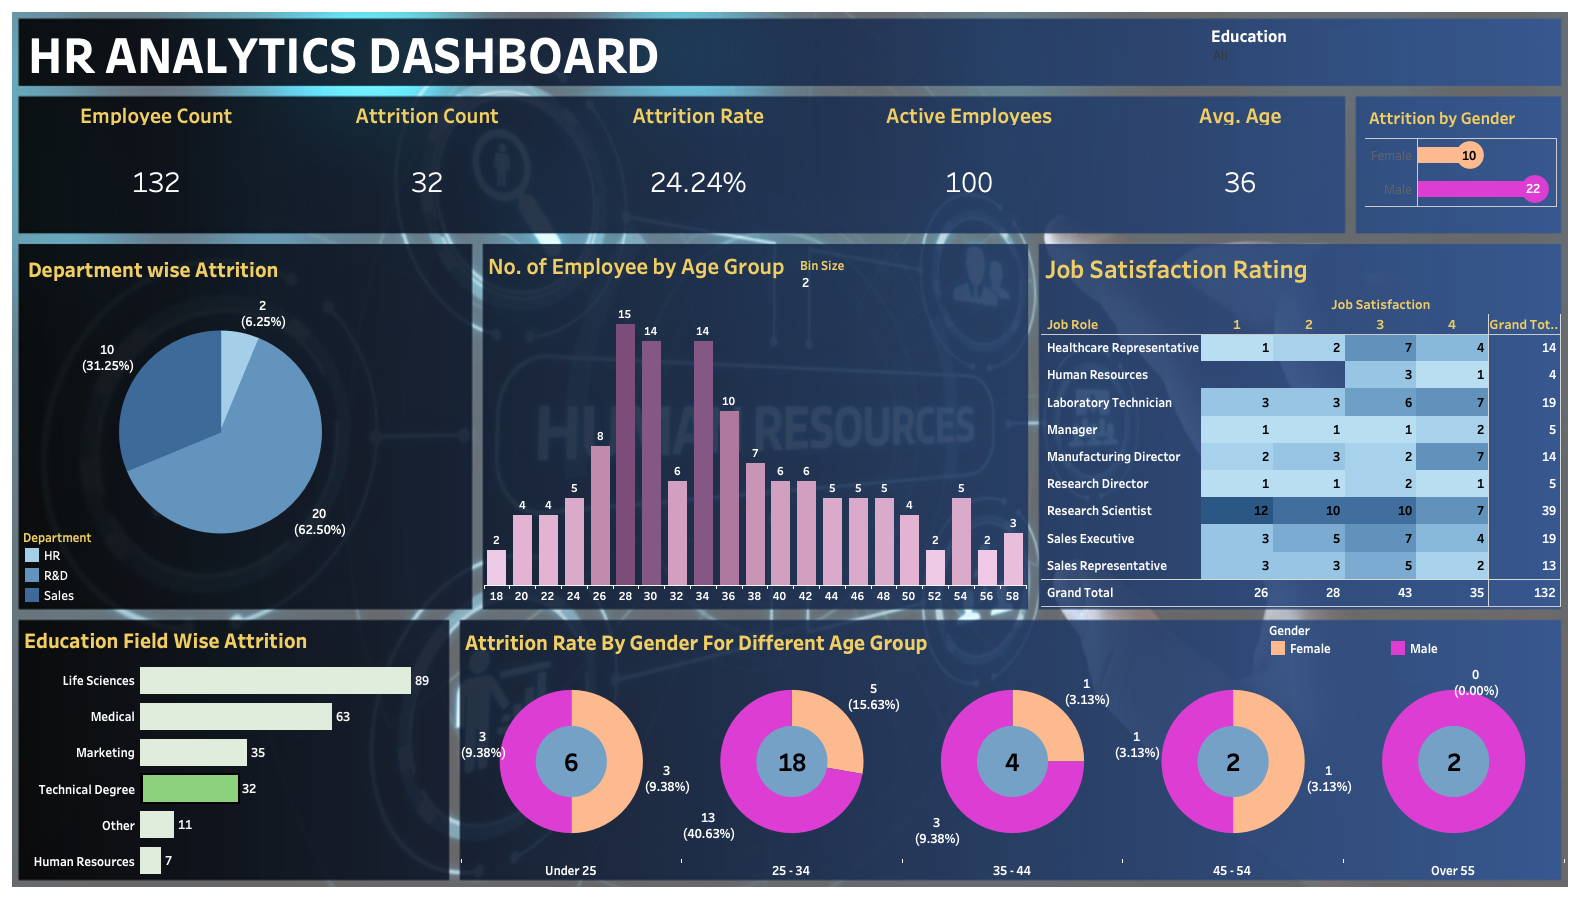

The dashboard page shown, as its layout file describes it:
{"tool":"tableau","page":{"name":"HR ANALYTICS DASHBOARD","canvas":[1580,900],"ordinal":0},"visuals":[{"type":"image","param":"/Users/colbylykins/Downloads/HR background.pptx.png","box":[8,8,1564,884]},{"type":"filter","title":"KPI","param":"[federated.0n5st0709qmowu1fukwz9053iohm].[none:Education:nk]","box":[1211,24,249,138]},{"type":"text","box":[26,25,785,57]},{"type":"worksheet","title":"Attrition by Gender","mark":"Automatic","rows":["Gender"],"cols":["Calculation_2280510309294817280","Calculation_2280510309294817280"],"box":[1365,101,192,106]},{"type":"worksheet","title":"KPI","mark":"Automatic","box":[21,105,1378,162]},{"type":"worksheet","title":"No. of Employee by Age Group","mark":"Automatic","rows":["Employee Count"],"cols":["Age (bin)"],"box":[484,245,542,360]},{"type":"worksheet","title":"Job Satisfaction Rating","mark":"Square","rows":["Job Role"],"cols":["Job Satisfaction"],"box":[1041,246,520,361]},{"type":"worksheet","title":"Department wise Attrition","mark":"Pie","box":[24,249,393,324]},{"type":"parameter","param":"[Parameters].[Parameter 1]","box":[800,256,223,40]},{"type":"legend","title":"Department wise Attrition","param":"[federated.0n5st0709qmowu1fukwz9053iohm].[none:Department:nk]","box":[22,527,118,79]},{"type":"worksheet","title":"Education Field Wise Attrition","mark":"Automatic","rows":["Education Field"],"cols":["Calculation_2280510309294817280"],"box":[20,620,428,259]},{"type":"worksheet","title":"Attrition Rate By Gender For Different Age Group","mark":"Pie","rows":["Calculation_3465871805796331521","Calculation_3465871805796331521"],"cols":["CF_age band"],"box":[461,622,1103,258]}]}

Visuals, with their boxes in screenshot pixels (x1, y1, x2, y2), scaled from the page's 1580x900 canvas onto the 1580x900 screenshot:
image: Rect(8, 8, 1572, 892)
"KPI" filter: Rect(1211, 24, 1460, 162)
text: Rect(26, 25, 811, 82)
"Attrition by Gender" worksheet: Rect(1365, 101, 1557, 207)
"KPI" worksheet: Rect(21, 105, 1399, 267)
"No. of Employee by Age Group" worksheet: Rect(484, 245, 1026, 605)
"Job Satisfaction Rating" worksheet (Square marks): Rect(1041, 246, 1561, 607)
"Department wise Attrition" worksheet (Pie marks): Rect(24, 249, 417, 573)
parameter: Rect(800, 256, 1023, 296)
"Department wise Attrition" legend: Rect(22, 527, 140, 606)
"Education Field Wise Attrition" worksheet: Rect(20, 620, 448, 879)
"Attrition Rate By Gender For Different Age Group" worksheet (Pie marks): Rect(461, 622, 1564, 880)
